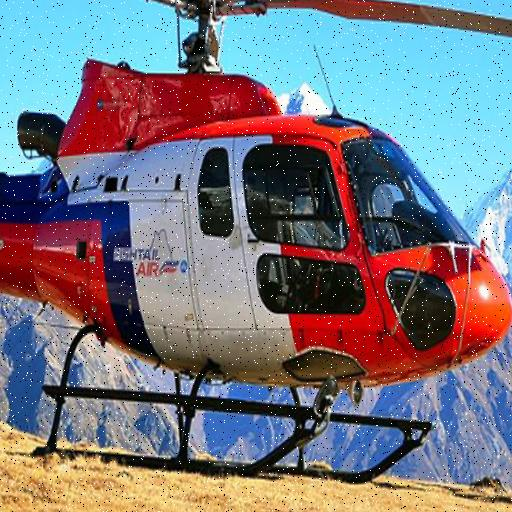helicopter: (3, 1, 512, 489)
